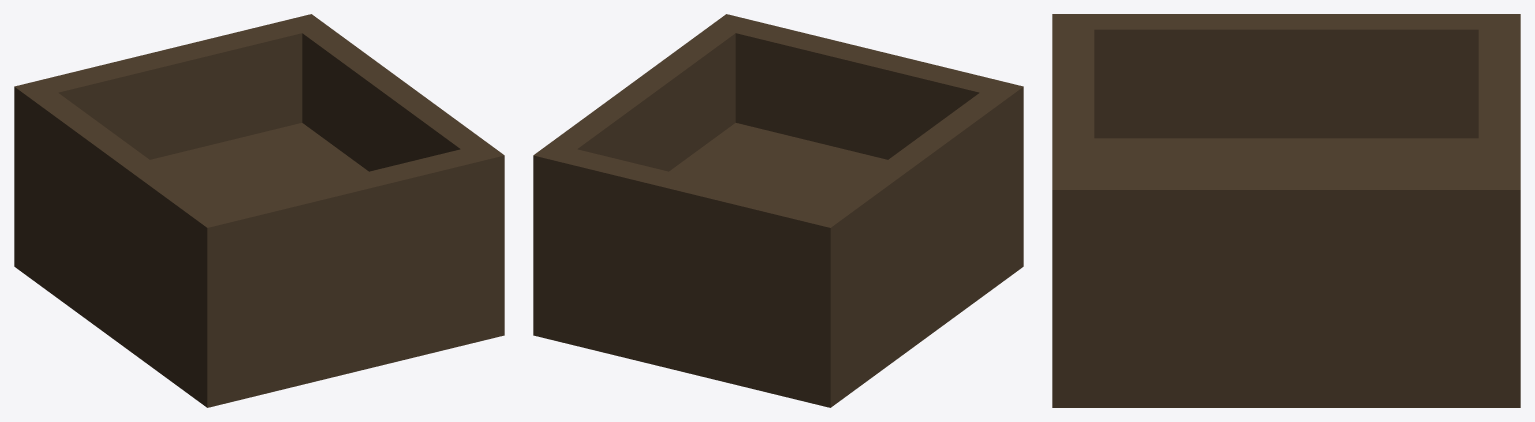
File: Proxy_Cart.fbx
The picture shows the model from 3 angles, left to right: view 1: azimuth 30°, elevation 25°; view 2: azimuth 150°, elevation 25°; view 3: azimuth 270°, elevation 25°; orthographic projection. The views are drawn at different scales.
Parts seen in each view (by area): view 1: Box017; view 2: Box017; view 3: Box017.
Part boxes in pixels (x1,y1,x2,y2): Box017: (14,14,504,407); Box017: (533,14,1023,407); Box017: (1052,14,1520,407).
Bounding box in the file's own units: 1.31 × 1.47 × 0.756.
